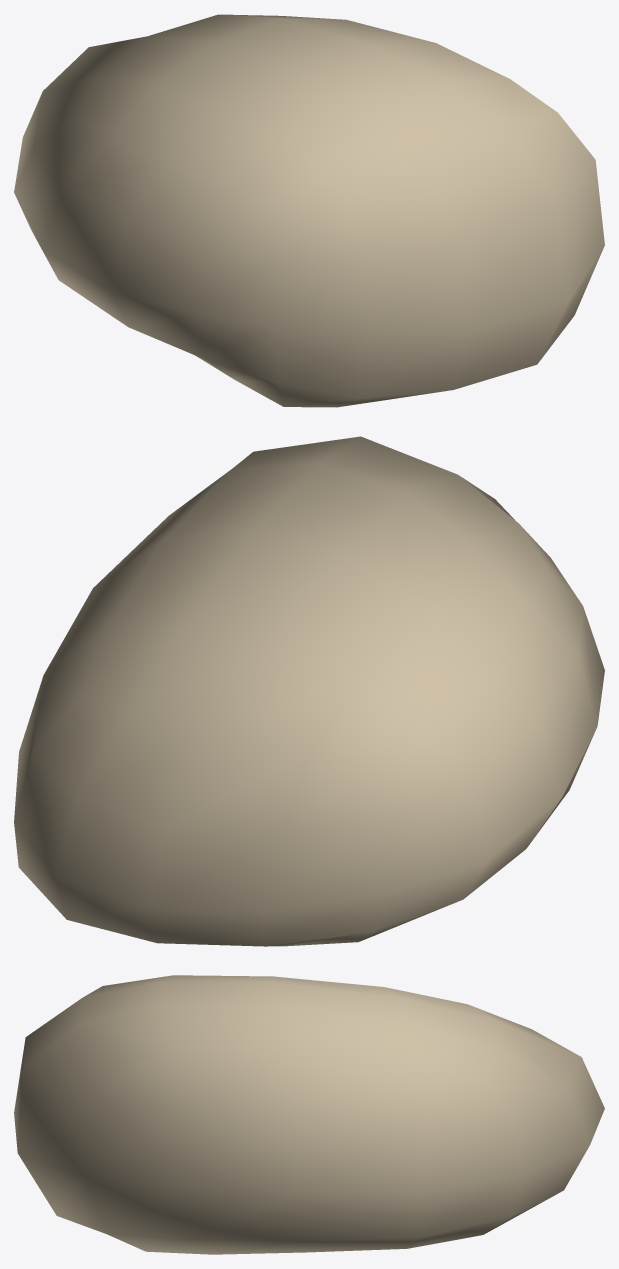
Rendered from Pebble_4.gltf.
3 views of the same model, one above another, from view 1: azimuth 30°, elevation 25°; view 2: azimuth 150°, elevation 25°; view 3: azimuth 270°, elevation 25° (orthographic). The views are drawn at different scales.
Parts seen in each view (by area): view 1: Pebble_4; view 2: Pebble_4; view 3: Pebble_4.
Boxes of the visible parts, <box> form: Pebble_4: <box>14,14,604,407</box>; Pebble_4: <box>14,436,604,946</box>; Pebble_4: <box>14,975,604,1254</box>.
Size of the model in its own units: 43.18 by 28.15 by 62.82.
Materials: 1 (1 with a texture image).
